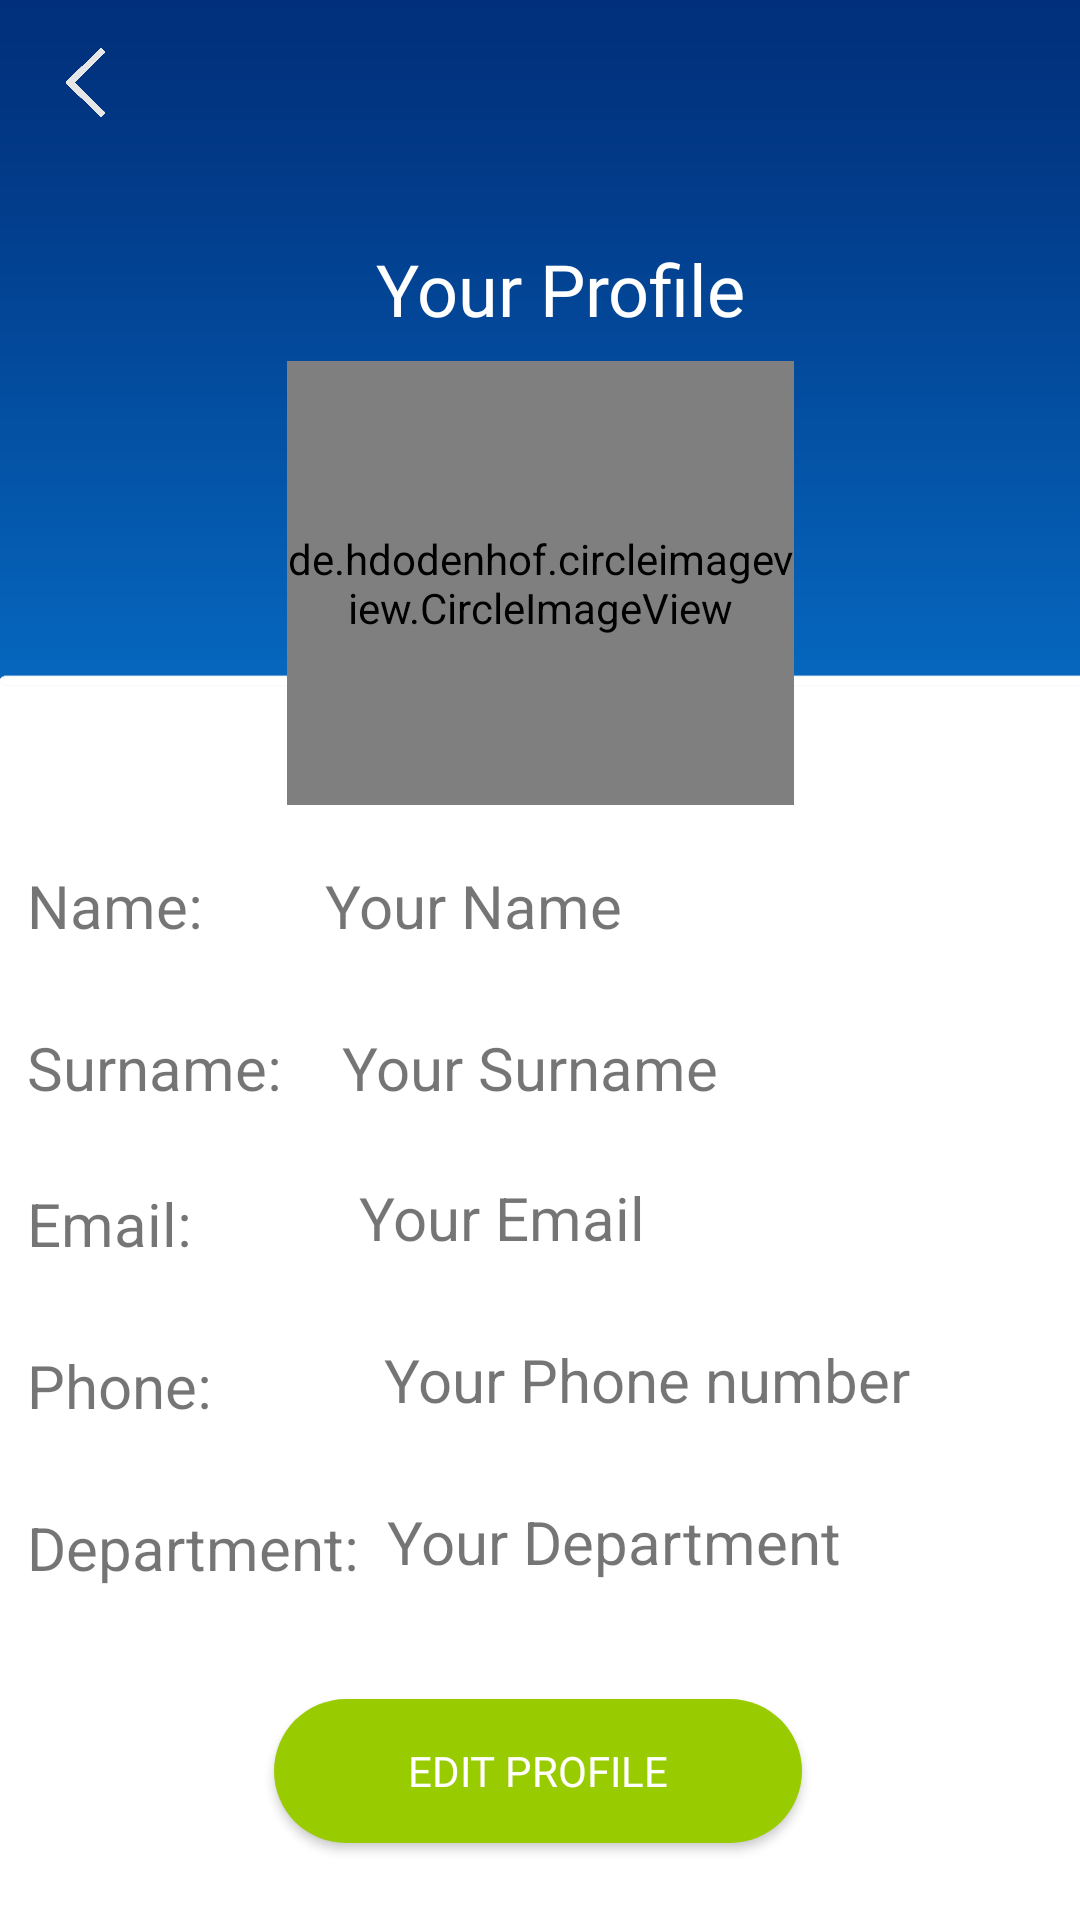

Point at icon controls on the screen. Image size 1080x1920, points as point (x, y).
back: point (85, 82)
